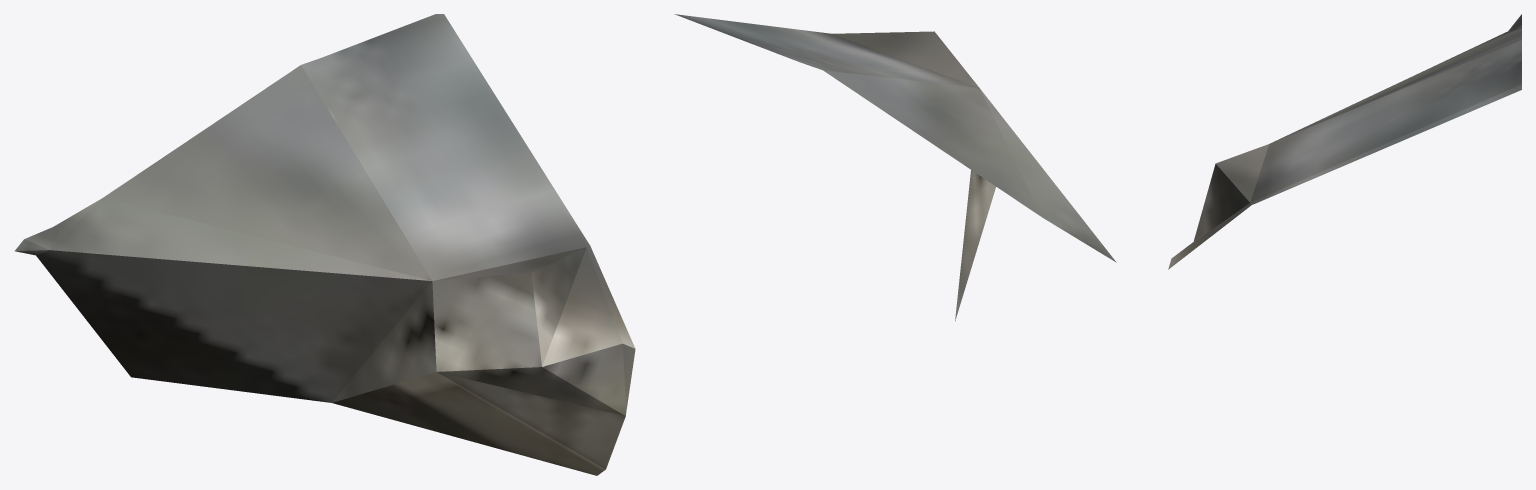
3 renders of one model, left to right at view 1: azimuth 30°, elevation 25°; view 2: azimuth 150°, elevation 25°; view 3: azimuth 270°, elevation 25°, orthographic. The views are drawn at different scales.
Size of the model in its own units: 0.1153 by 0.1076 by 0.089.
Materials: 1 (1 with a texture image).
